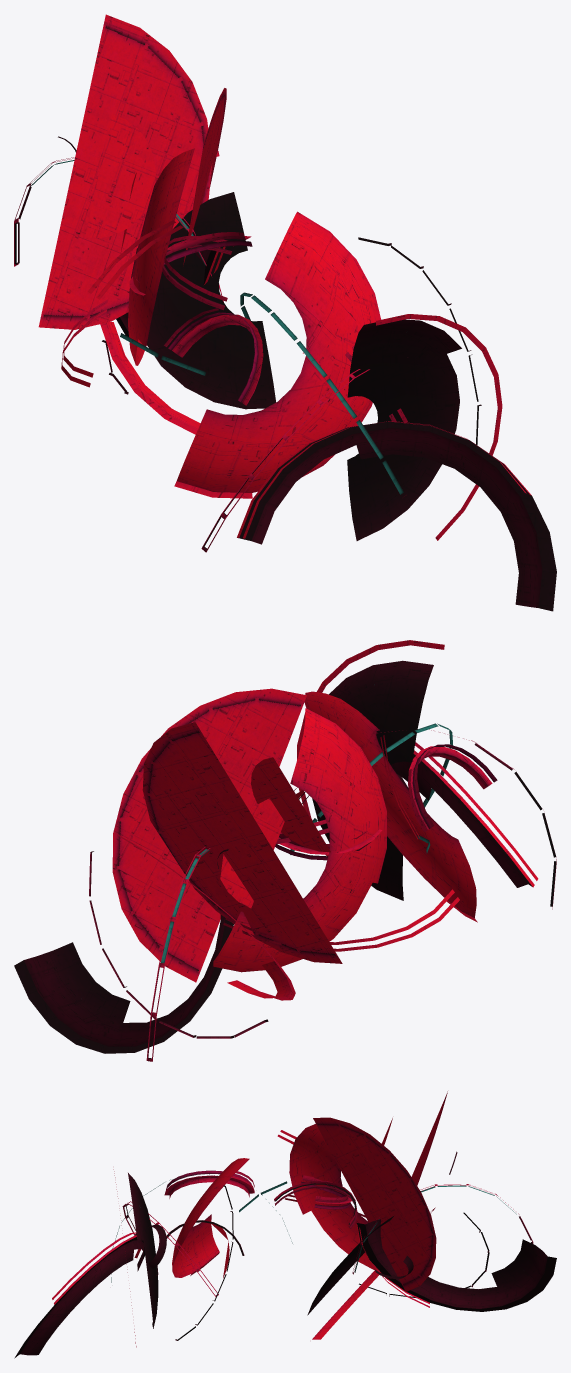
File: MonsterB_Die19.obj
3 views of the same model, one above another, from view 1: azimuth 30°, elevation 25°; view 2: azimuth 150°, elevation 25°; view 3: azimuth 270°, elevation 25° (orthographic). The views are drawn at different scales.
Visible parts, largest first — view 1: Sphere001; view 2: Sphere001; view 3: Sphere001.
Boxes of the visible parts, <box> form: Sphere001: <box>14,14,556,611</box>; Sphere001: <box>14,640,556,1061</box>; Sphere001: <box>14,1091,556,1358</box>.
Bounding box in the file's own units: 236 × 259 × 536.
Materials: 1 (1 with a texture image).
